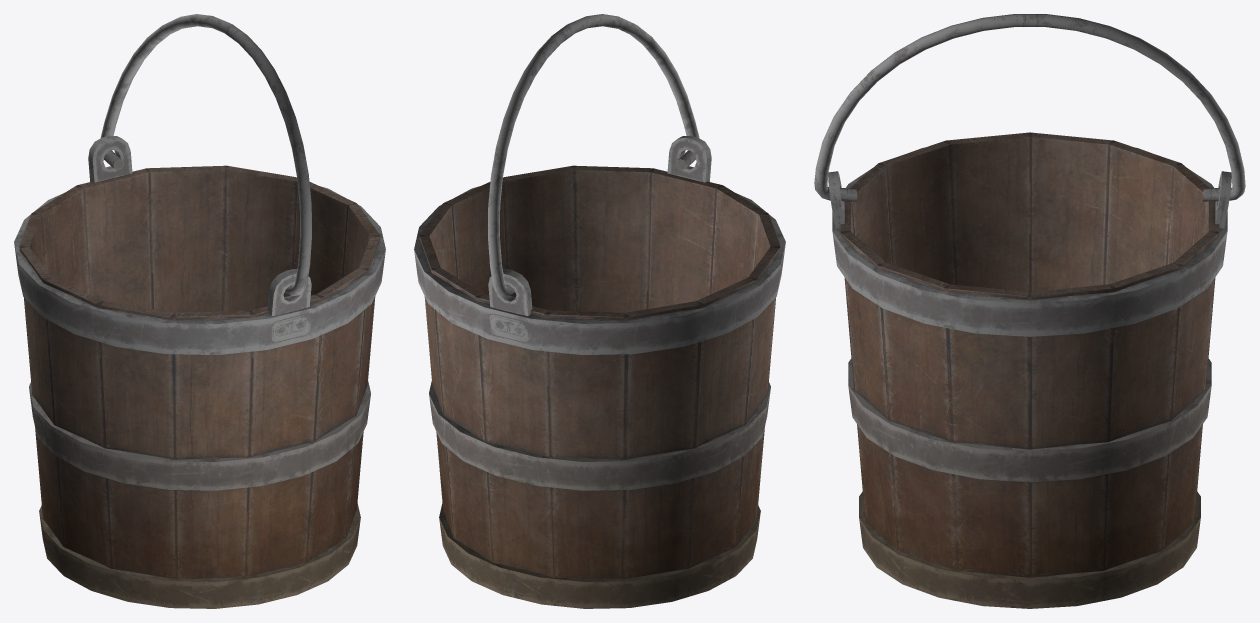
The model's file is Bucket.obj.
3 views of the same model, side by side, from view 1: azimuth 30°, elevation 25°; view 2: azimuth 150°, elevation 25°; view 3: azimuth 270°, elevation 25° (orthographic). The views are drawn at different scales.
Visible parts, largest first — view 1: Bucket; view 2: Bucket; view 3: Bucket.
Part boxes in pixels (<box>): Bucket: <box>14,14,385,608</box>; Bucket: <box>414,14,785,608</box>; Bucket: <box>814,14,1245,608</box>.
Size of the model in its own units: 28.01 by 41.95 by 30.26.
